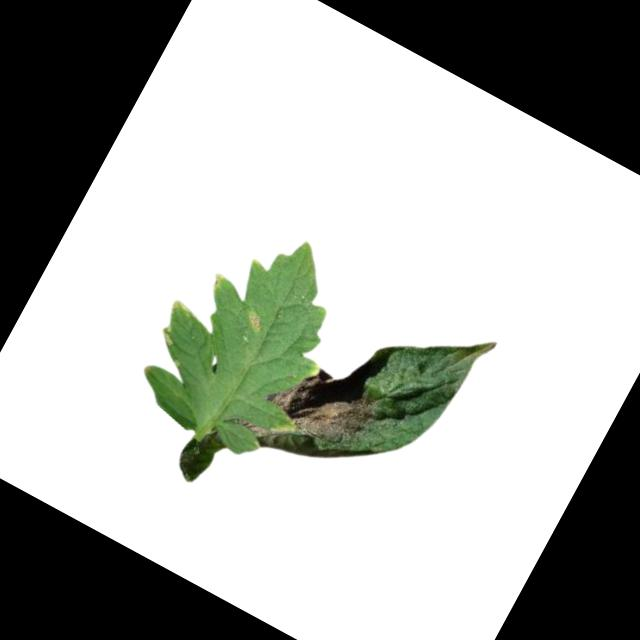Late_blight: (244, 348, 383, 480), (156, 322, 181, 347), (243, 308, 268, 332), (167, 296, 191, 317), (208, 270, 227, 291)
